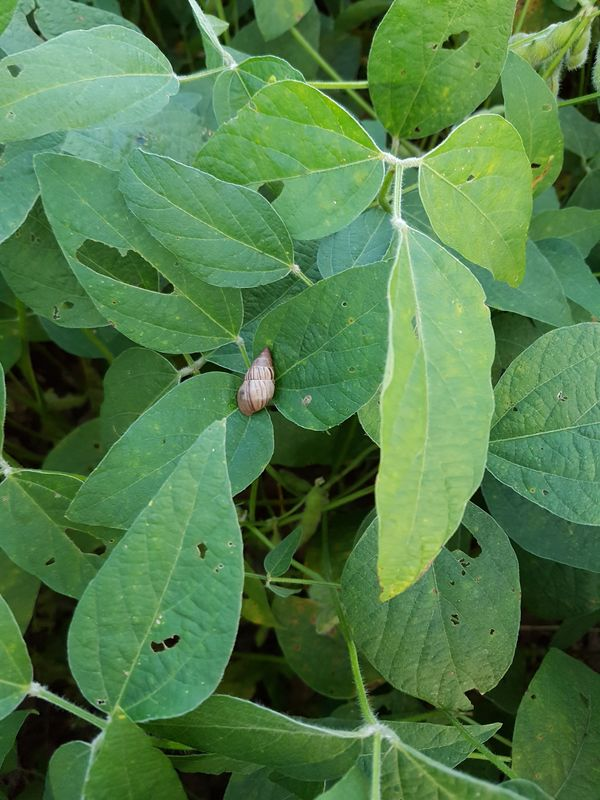Gastropoda: (219, 342, 293, 421)
